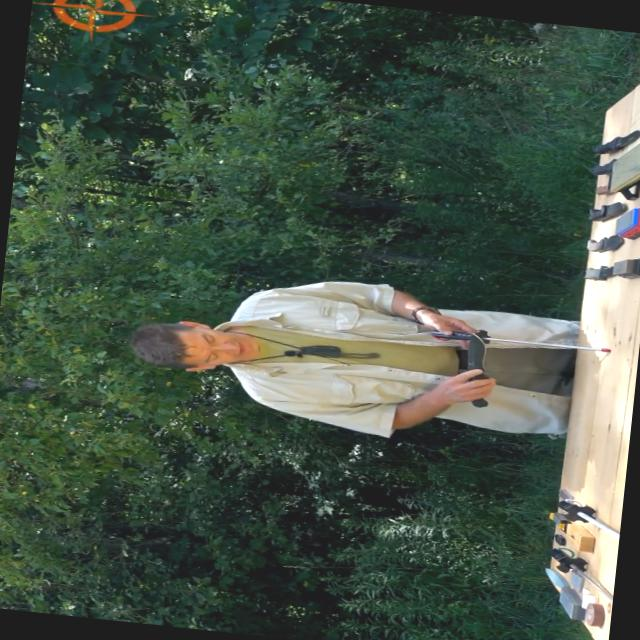knife: (454, 330, 502, 412)
